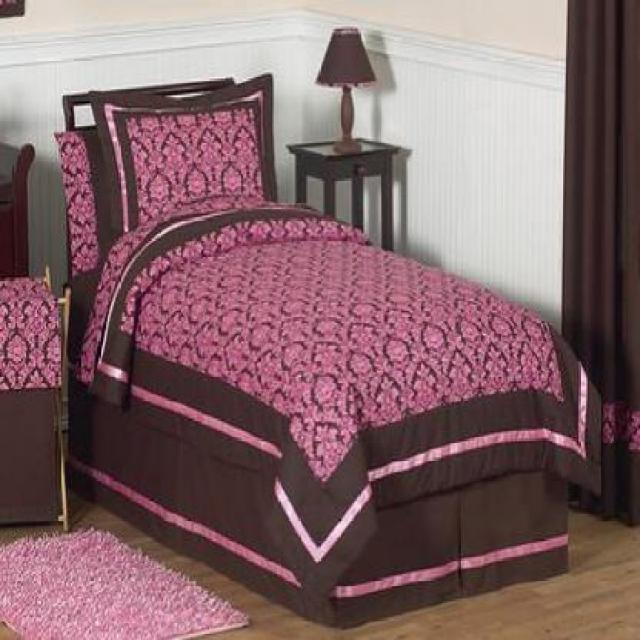Bed: (44, 66, 615, 634)
